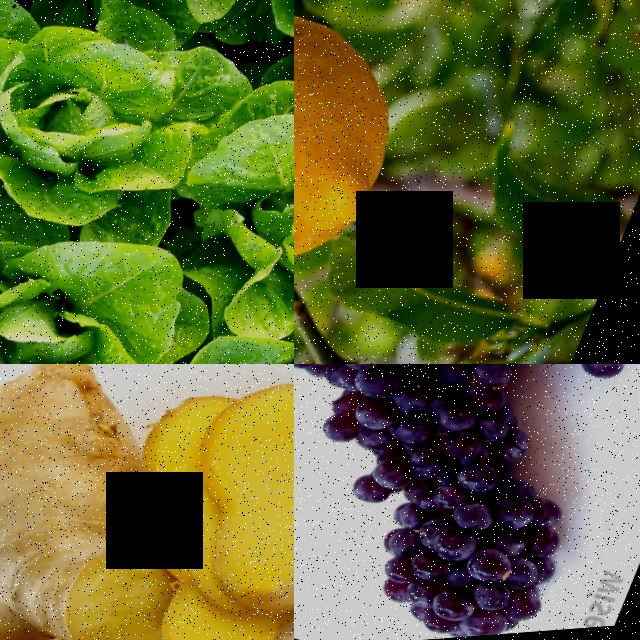ginger: (0, 364, 148, 640)
grapes: (294, 364, 632, 640), (294, 364, 561, 438)
lemon: (294, 0, 449, 300)
lettuce: (0, 0, 254, 268), (144, 53, 294, 341), (0, 176, 211, 364), (0, 0, 263, 53)
